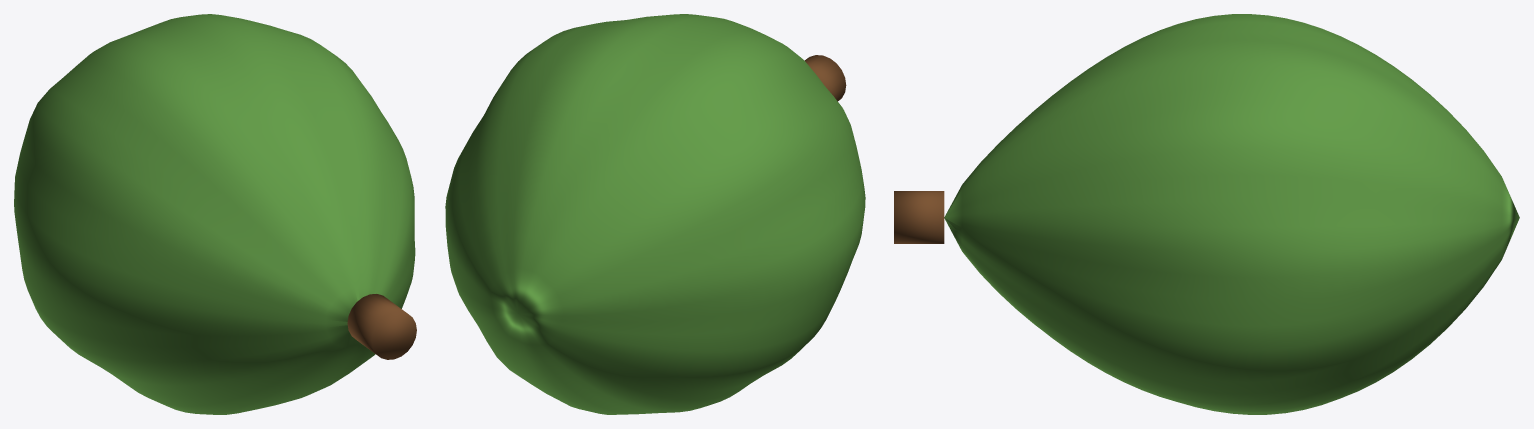
File: avocado.glb
The picture shows the model from 3 angles, left to right: view 1: azimuth 30°, elevation 25°; view 2: azimuth 150°, elevation 25°; view 3: azimuth 270°, elevation 25°; orthographic projection. The views are drawn at different scales.
Visible parts, largest first — view 1: avocado_body, avocado_stem; view 2: avocado_body, avocado_stem; view 3: avocado_body, avocado_stem.
Boxes of the visible parts, x1,y1,x2,y2 form: avocado_body: [14, 14, 415, 414]; avocado_stem: [347, 294, 416, 359]; avocado_body: [445, 14, 865, 414]; avocado_stem: [804, 55, 846, 101]; avocado_body: [944, 14, 1519, 414]; avocado_stem: [894, 191, 944, 243].
Size of the model in its own units: 0.0486 by 0.048 by 0.075.
